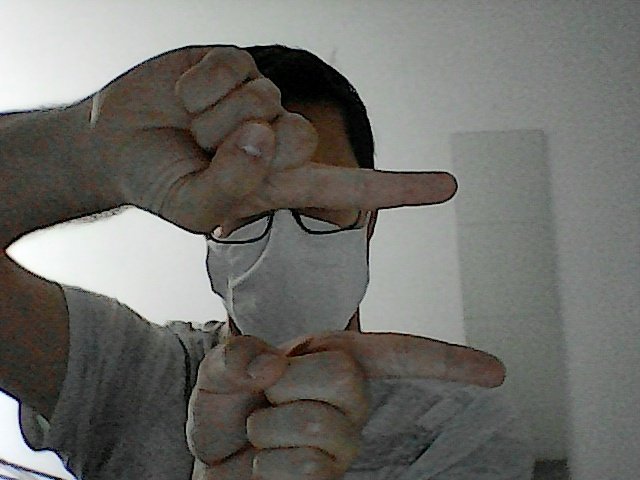left: (110, 39, 474, 242), (179, 322, 515, 480)
